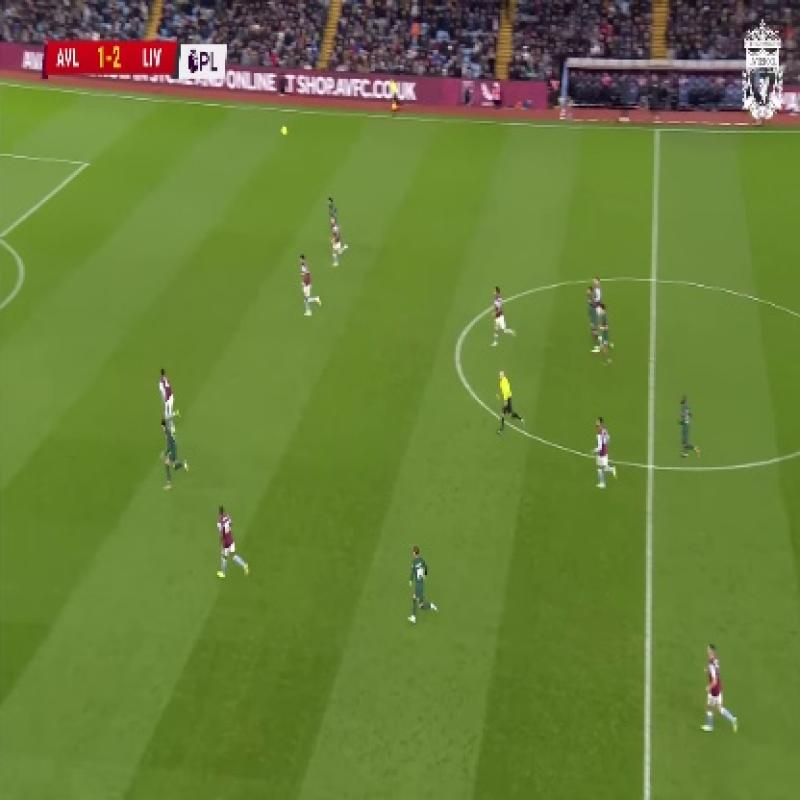10: (0, 225, 8, 248)
13: (646, 116, 667, 142)
14: (640, 262, 668, 296)
15: (636, 444, 665, 484)
9: (75, 150, 94, 175)
c: (444, 328, 474, 368)
